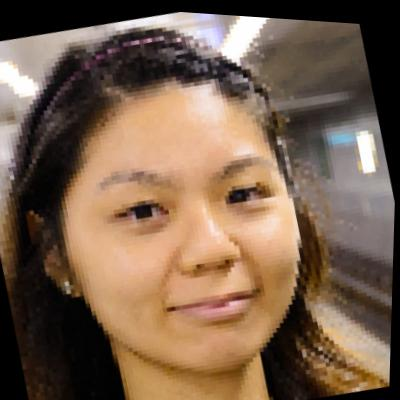happy: (54, 56, 325, 385)
